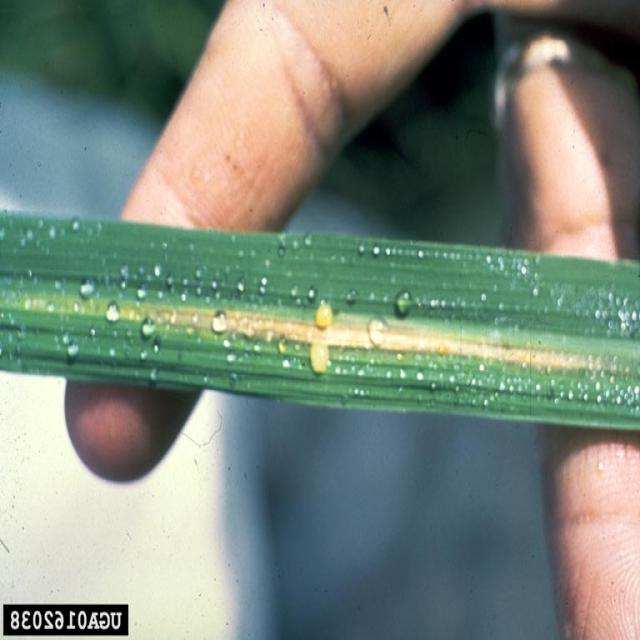Bacterial leaf blight: (11, 265, 616, 397)
